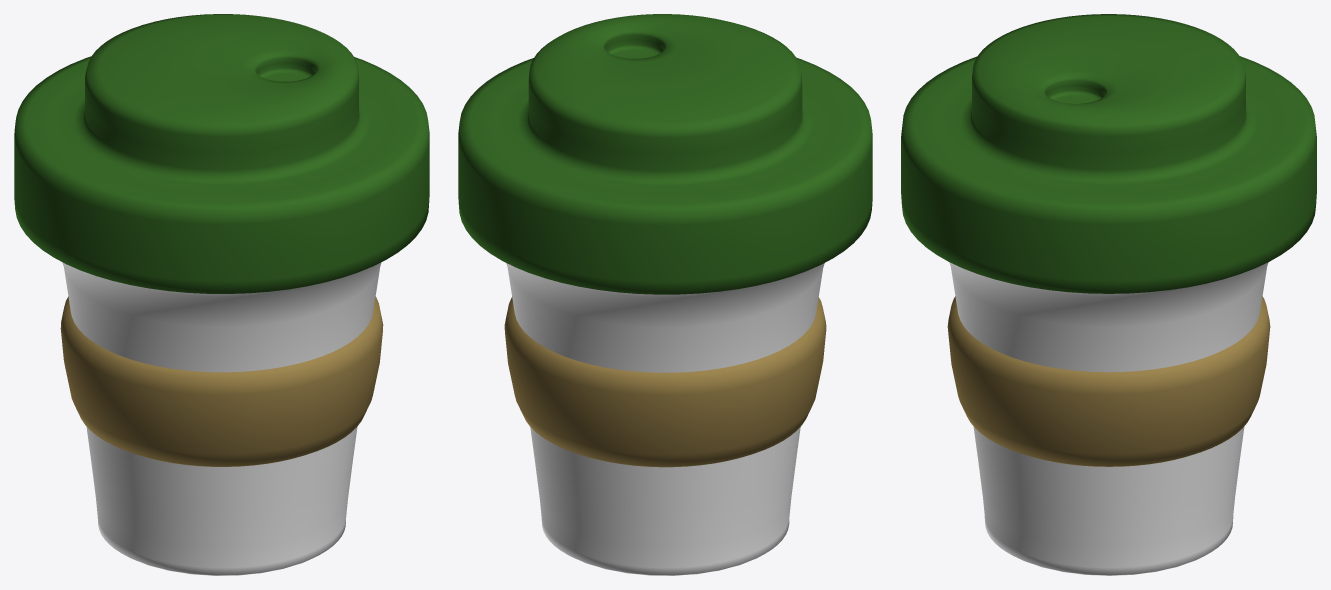
File: Coffe.fbx
3 views of the same model, side by side, from view 1: azimuth 30°, elevation 25°; view 2: azimuth 150°, elevation 25°; view 3: azimuth 270°, elevation 25° (orthographic).
Parts seen in each view (by area): view 1: Coffe; view 2: Coffe; view 3: Coffe.
Part boxes in pixels (<box>): Coffe: <box>14,14,429,575</box>; Coffe: <box>458,14,872,575</box>; Coffe: <box>901,14,1316,575</box>.
Size of the model in its own units: 250 by 307 by 250.
